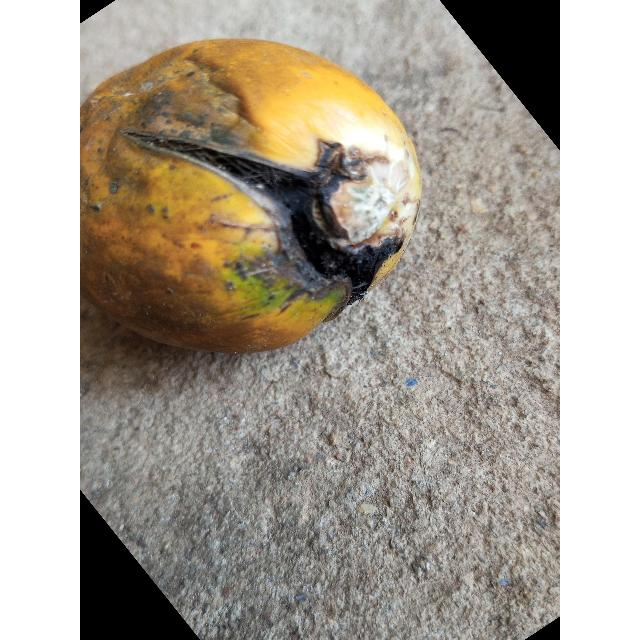damaged: (80, 39, 421, 353)
